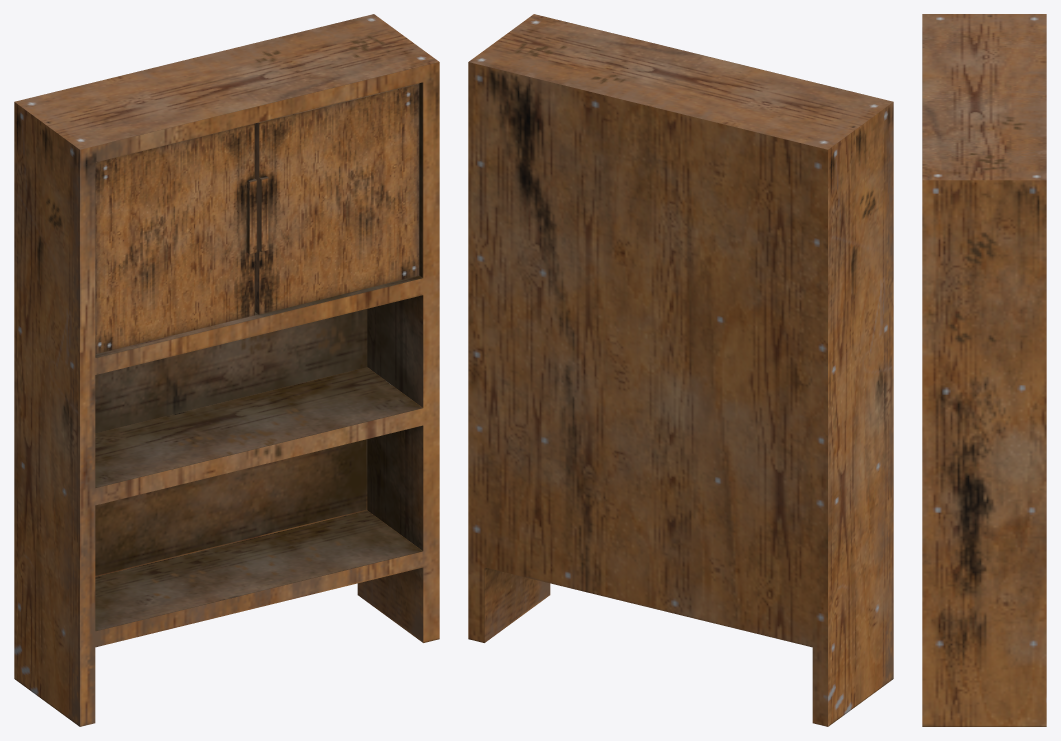
File: shkaf1.fbx
The picture shows the model from 3 angles, left to right: view 1: azimuth 30°, elevation 25°; view 2: azimuth 150°, elevation 25°; view 3: azimuth 270°, elevation 25°; orthographic projection. The views are drawn at different scales.
Visible parts, largest first — view 1: main, doorR, doorR.001; view 2: main; view 3: main.
Boxes of the visible parts, x1,y1,x2,y2 form: main: [14, 14, 439, 726]; doorR: [255, 83, 419, 314]; doorR.001: [95, 123, 257, 354]; main: [468, 14, 893, 726]; main: [922, 14, 1046, 726].
Bounding box in the file's own units: 521 × 800 × 165.
3 materials, 3 textured.
